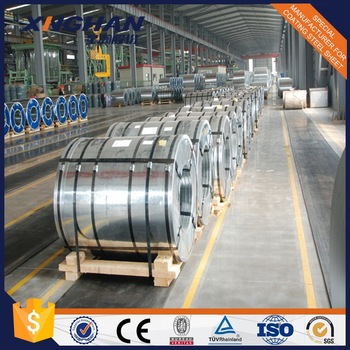steel-coil: (48, 81, 264, 270), (61, 81, 264, 270), (61, 81, 197, 270), (45, 95, 179, 253), (3, 87, 95, 133), (100, 81, 183, 107)
